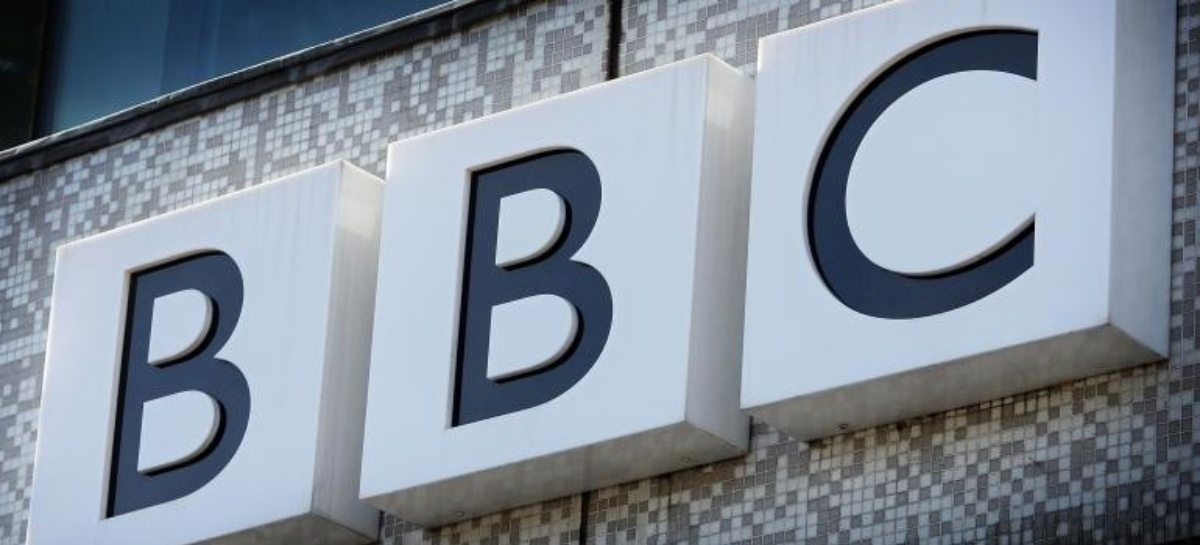text: (129, 8, 144, 519), (145, 8, 160, 519), (161, 8, 176, 519), (177, 8, 192, 519), (193, 8, 208, 519), (209, 8, 224, 519), (225, 8, 240, 519), (241, 8, 256, 519), (257, 8, 272, 519), (273, 8, 288, 519), (289, 8, 304, 519), (305, 8, 320, 519), (321, 8, 336, 519), (337, 8, 352, 519), (353, 8, 368, 519), (369, 8, 384, 519), (385, 8, 400, 519), (401, 8, 416, 519), (417, 8, 432, 519), (433, 8, 448, 519), (449, 8, 464, 519), (465, 8, 480, 519), (481, 8, 496, 519), (497, 8, 512, 519), (513, 8, 528, 519), (529, 8, 544, 519), (545, 8, 560, 519), (561, 8, 576, 519), (577, 8, 592, 519), (593, 8, 608, 519), (609, 8, 624, 519), (625, 8, 640, 519), (641, 8, 656, 519), (657, 8, 672, 519), (673, 8, 688, 519), (689, 8, 704, 519), (705, 8, 720, 519), (721, 8, 736, 519), (737, 8, 752, 519), (753, 8, 768, 519), (769, 8, 784, 519), (785, 8, 800, 519), (801, 8, 816, 519), (817, 8, 832, 519), (833, 8, 848, 519), (849, 8, 864, 519), (865, 8, 880, 519), (881, 8, 896, 519), (897, 8, 912, 519), (913, 8, 928, 519), (929, 8, 944, 519), (945, 8, 960, 519), (961, 8, 976, 519), (977, 8, 992, 519), (993, 8, 1008, 519), (1009, 8, 1024, 519), (1025, 8, 1040, 519), (1041, 8, 1045, 519), (125, 8, 128, 519)
